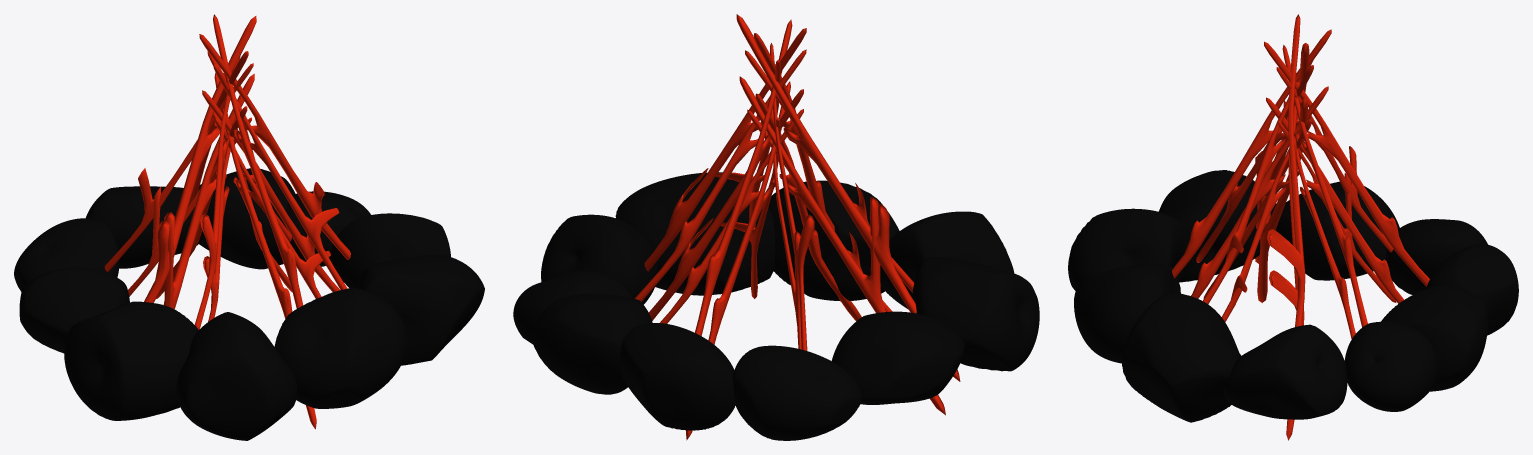
Rendered from fireplace.fbx.
3 views of the same model, side by side, from view 1: azimuth 30°, elevation 25°; view 2: azimuth 150°, elevation 25°; view 3: azimuth 270°, elevation 25° (orthographic). The views are drawn at different scales.
Parts seen in each view (by area): view 1: Cube.026; view 2: Cube.026; view 3: Cube.026.
Boxes of the visible parts, x1=… form: Cube.026: x1=14, y1=14, x2=484, y2=440; Cube.026: x1=513, y1=14, x2=1039, y2=440; Cube.026: x1=1068, y1=14, x2=1518, y2=440.
Bounding box in the file's own units: 396 × 327 × 389.
